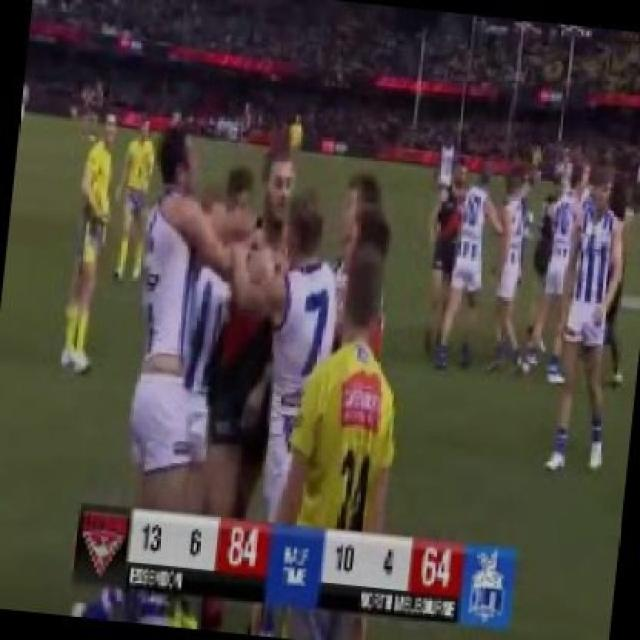fight: (69, 127, 342, 634), (425, 161, 533, 371)
non-fight: (274, 239, 398, 640), (54, 110, 118, 380)
